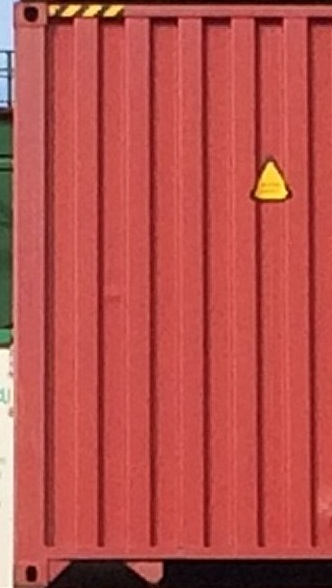container_no_door: (17, 4, 327, 583)
